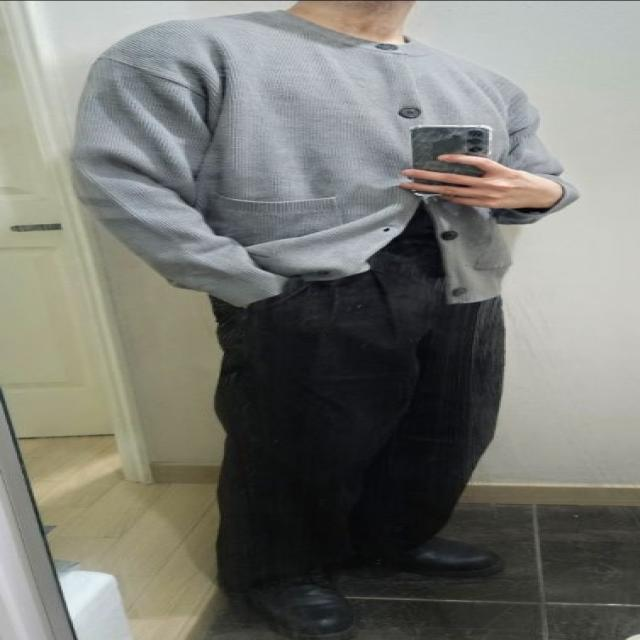cardigan: (78, 4, 572, 304)
cottonpants: (205, 212, 502, 590)
